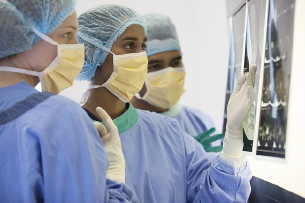Mask: (100, 34, 165, 99)
